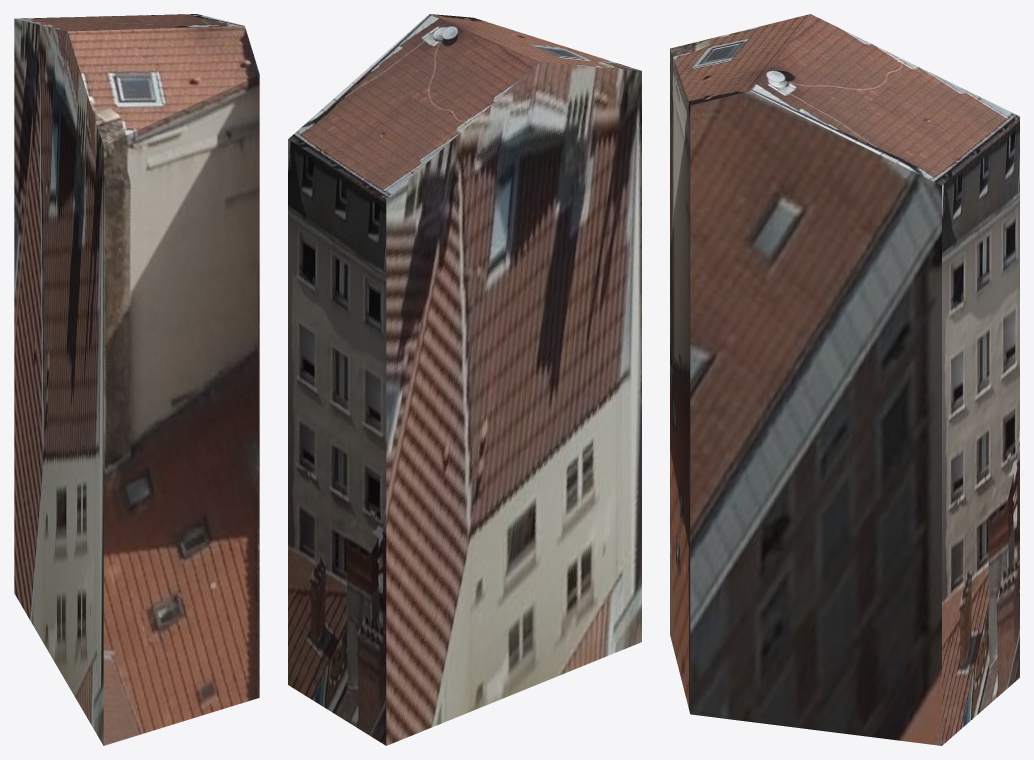
The picture shows the model from 3 angles, left to right: view 1: azimuth 30°, elevation 25°; view 2: azimuth 150°, elevation 25°; view 3: azimuth 270°, elevation 25°; orthographic projection. The views are drawn at different scales.
Visible parts, largest first — view 1: Z_UP; view 2: Z_UP; view 3: Z_UP.
Boxes of the visible parts, x1,y1,x2,y2 form: Z_UP: (14, 14, 259, 745); Z_UP: (288, 14, 641, 745); Z_UP: (670, 14, 1019, 745).
Size of the model in its own units: 8.46 by 22.68 by 11.27.
Materials: 2 (1 with a texture image).
